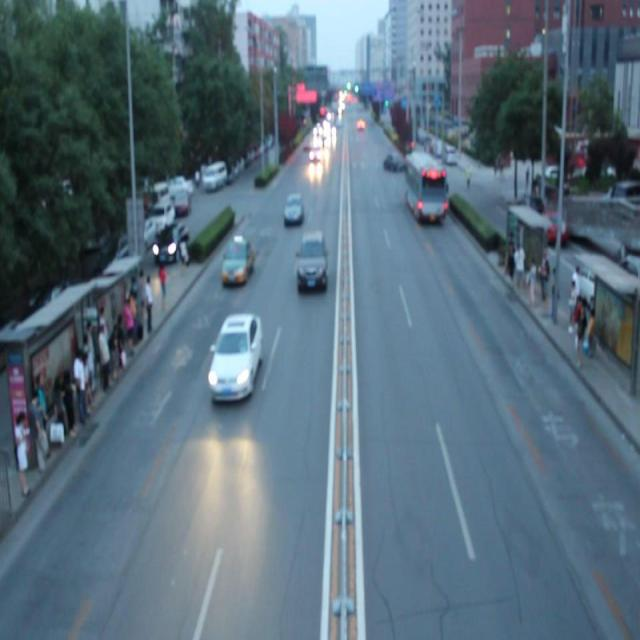car: (207, 314, 260, 401), (298, 230, 326, 290), (222, 233, 252, 284), (283, 192, 302, 224), (384, 147, 404, 171), (308, 144, 323, 162)
van: (404, 153, 447, 218)
